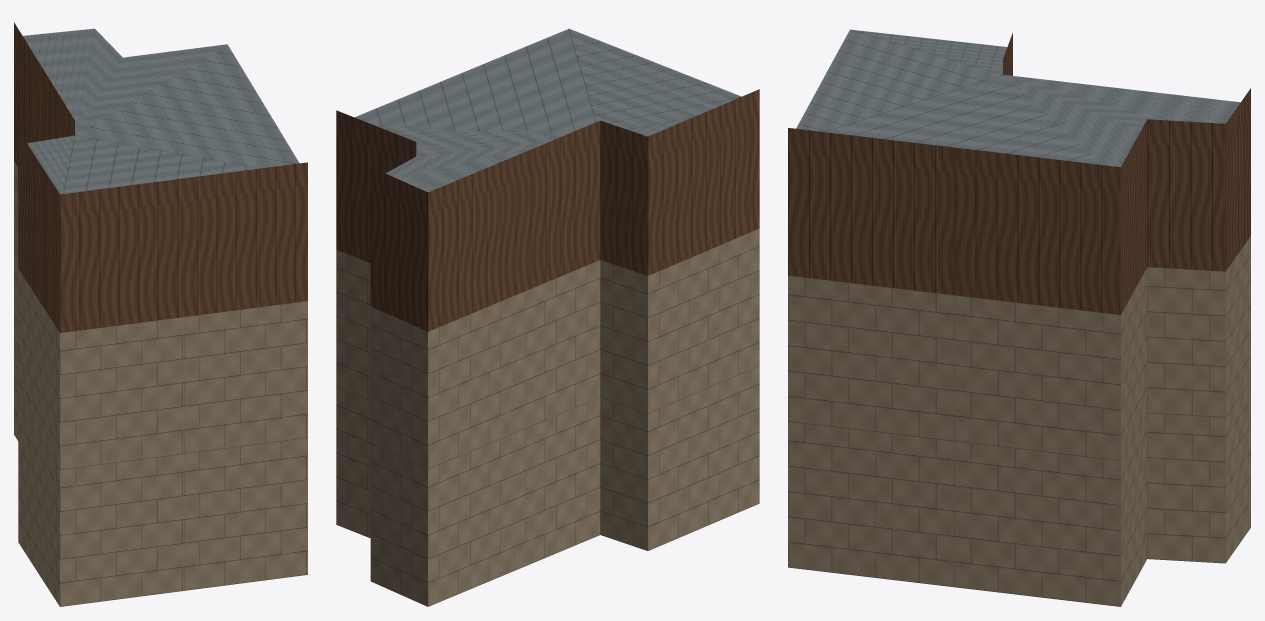
The model's file is bld_c1_12_486.gltf.
3 renders of one model, left to right at view 1: azimuth 30°, elevation 25°; view 2: azimuth 150°, elevation 25°; view 3: azimuth 270°, elevation 25°, orthographic. The views are drawn at different scales.
Parts seen in each view (by area): view 1: bld_c1_12_486; view 2: bld_c1_12_486; view 3: bld_c1_12_486.
Part boxes in pixels (left/top/right/bottom): bld_c1_12_486: left=14, top=22, right=307, bottom=606; bld_c1_12_486: left=336, top=28, right=759, bottom=606; bld_c1_12_486: left=788, top=29, right=1250, bottom=606.
Size of the model in its own units: 5.07 by 6.78 by 6.47.
Materials: 4 (4 with a texture image).
